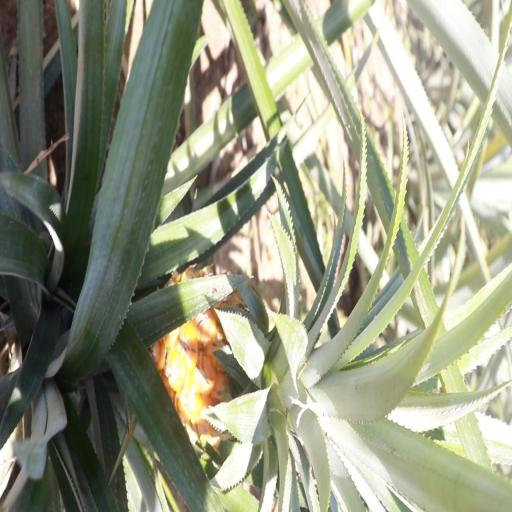Pineapple - v8 v1: (152, 273, 402, 470)
